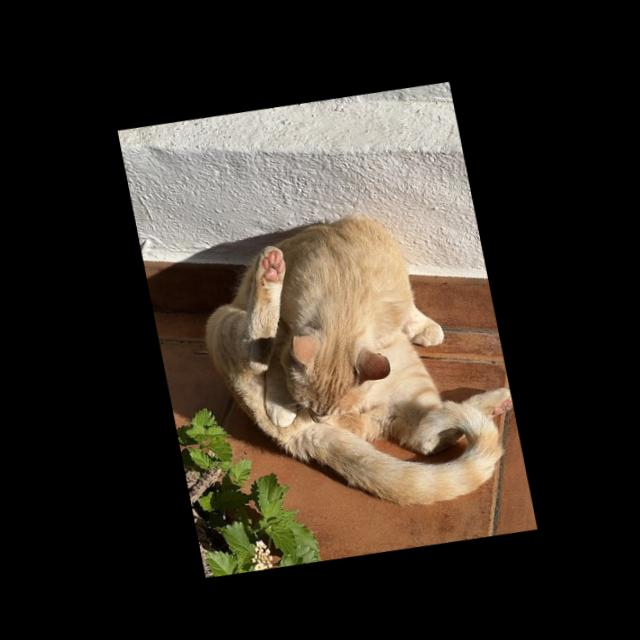animals: (184, 190, 528, 535)
